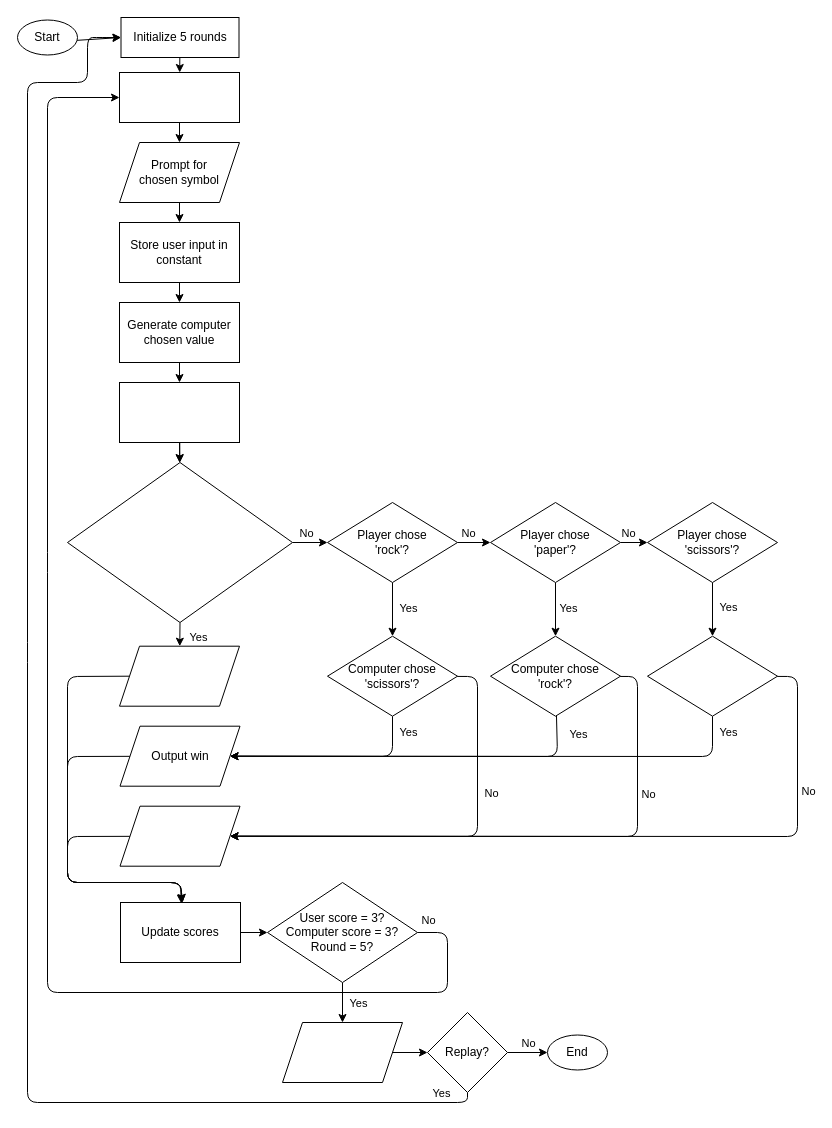
This 832x1128 diagram has some shape labels left out. Each missing label, with the centre of its shape:
Computer chose 'paper'?: point 712,675
Increment round: point 179,97
Is the user chosen value the same as the computer chosen value?: point 179,542
Output lose: point 179,835
Output overall result: point 342,1052
Output tie: point 179,675
Store computer chosen value in constant: point 179,412
